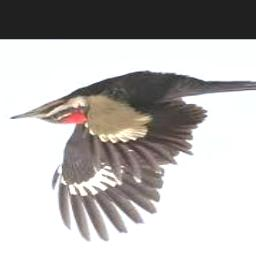Woodpecker: (9, 73, 256, 242)
